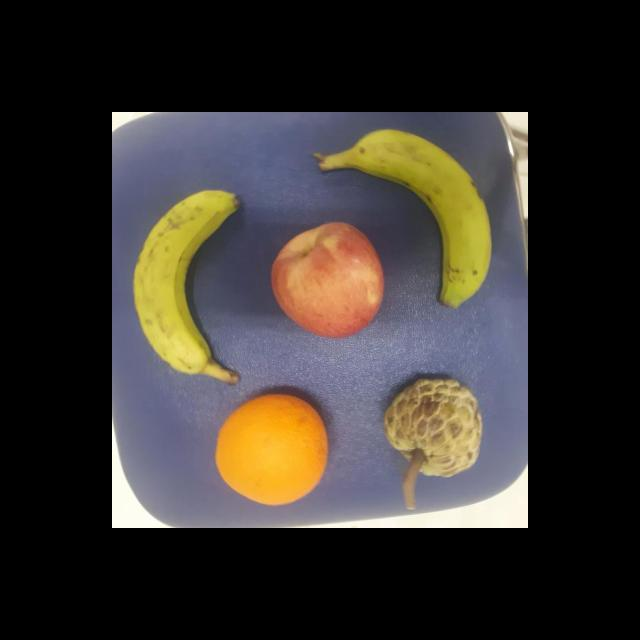Sakya fruit: (380, 376, 486, 480)
apple: (268, 218, 386, 344)
banana: (310, 127, 494, 311), (132, 192, 240, 388)
orange: (211, 393, 330, 506)
